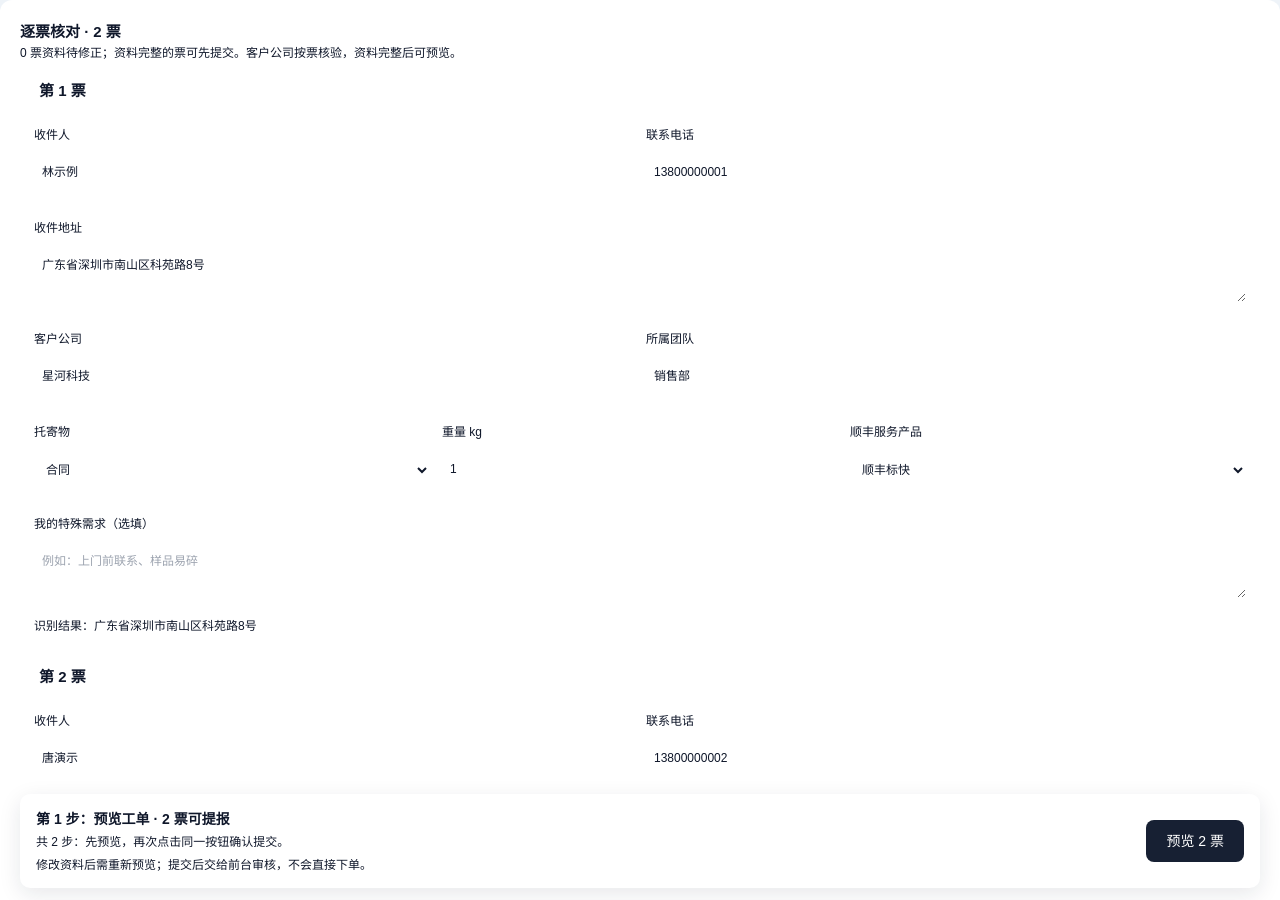
Test case: keeps each ticket value frozen after success and an unknown response
Select "样品" in the dropdown named "第1票托寄物" at (232,470), box x1=34 y1=453 x2=430 y2=487
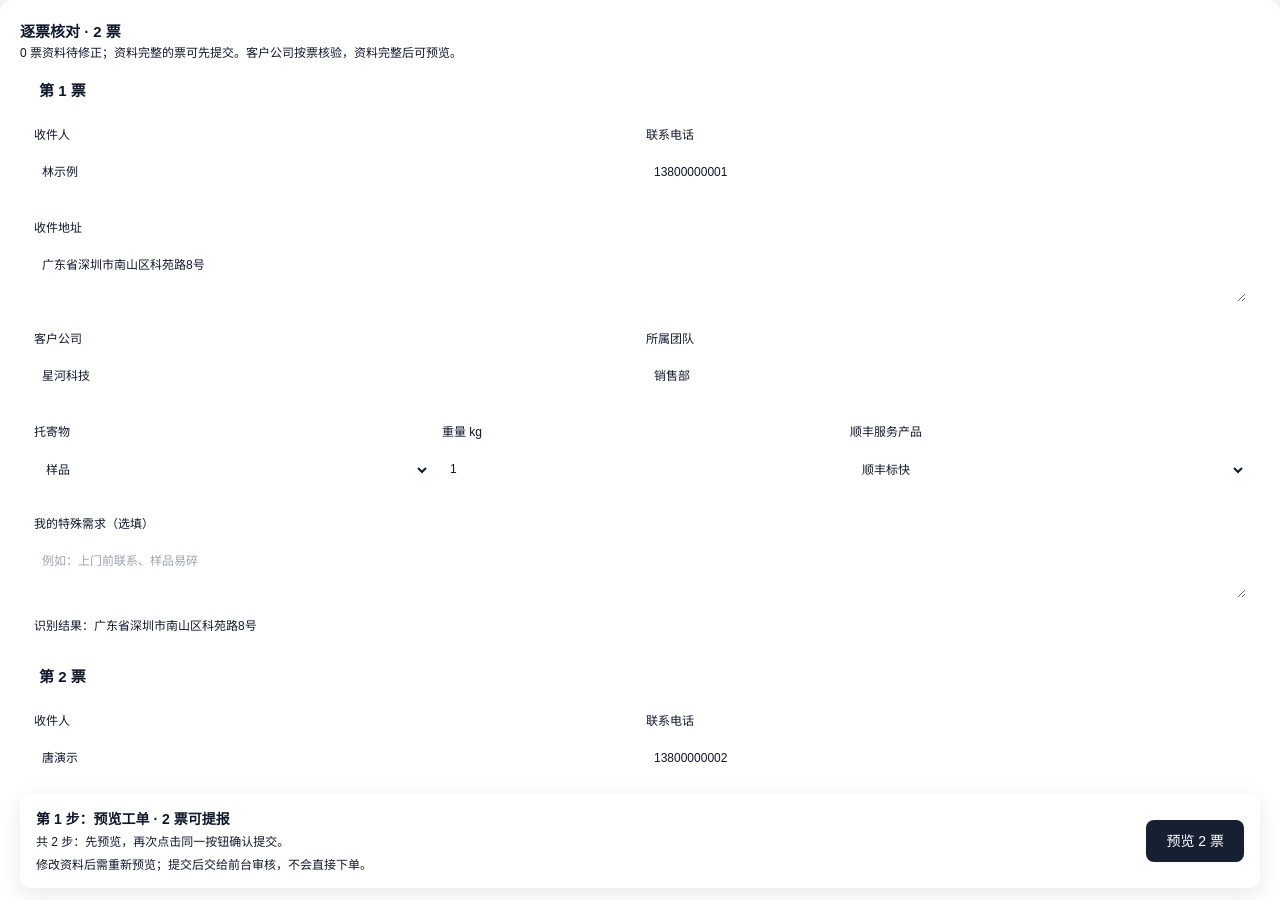
Click the button "预览 2 票" at (1195,841), box x1=1146 y1=820 x2=1244 y2=862
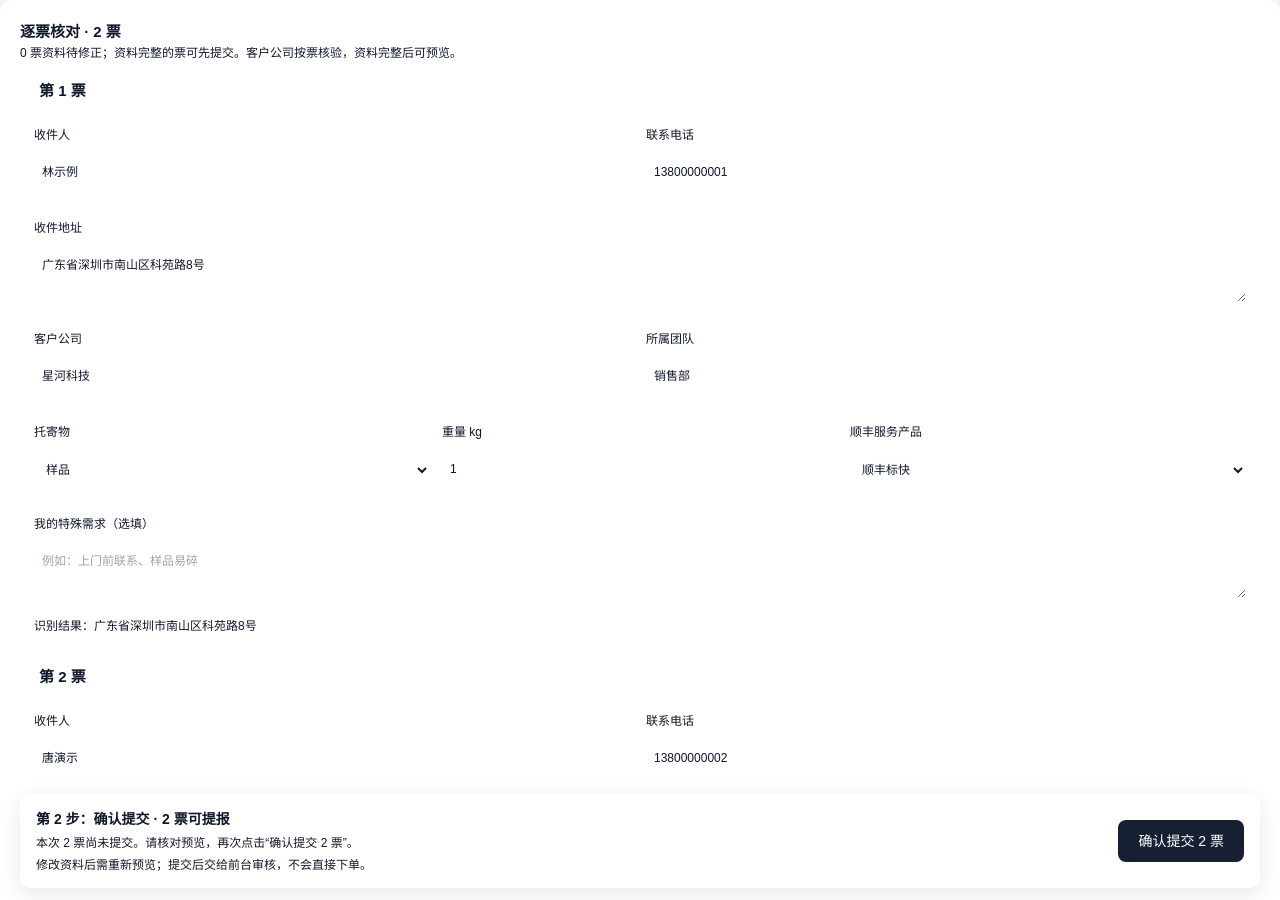
Click the button "确认提交 2 票" at (1181,841), box x1=1118 y1=820 x2=1244 y2=862
(page scrolled)
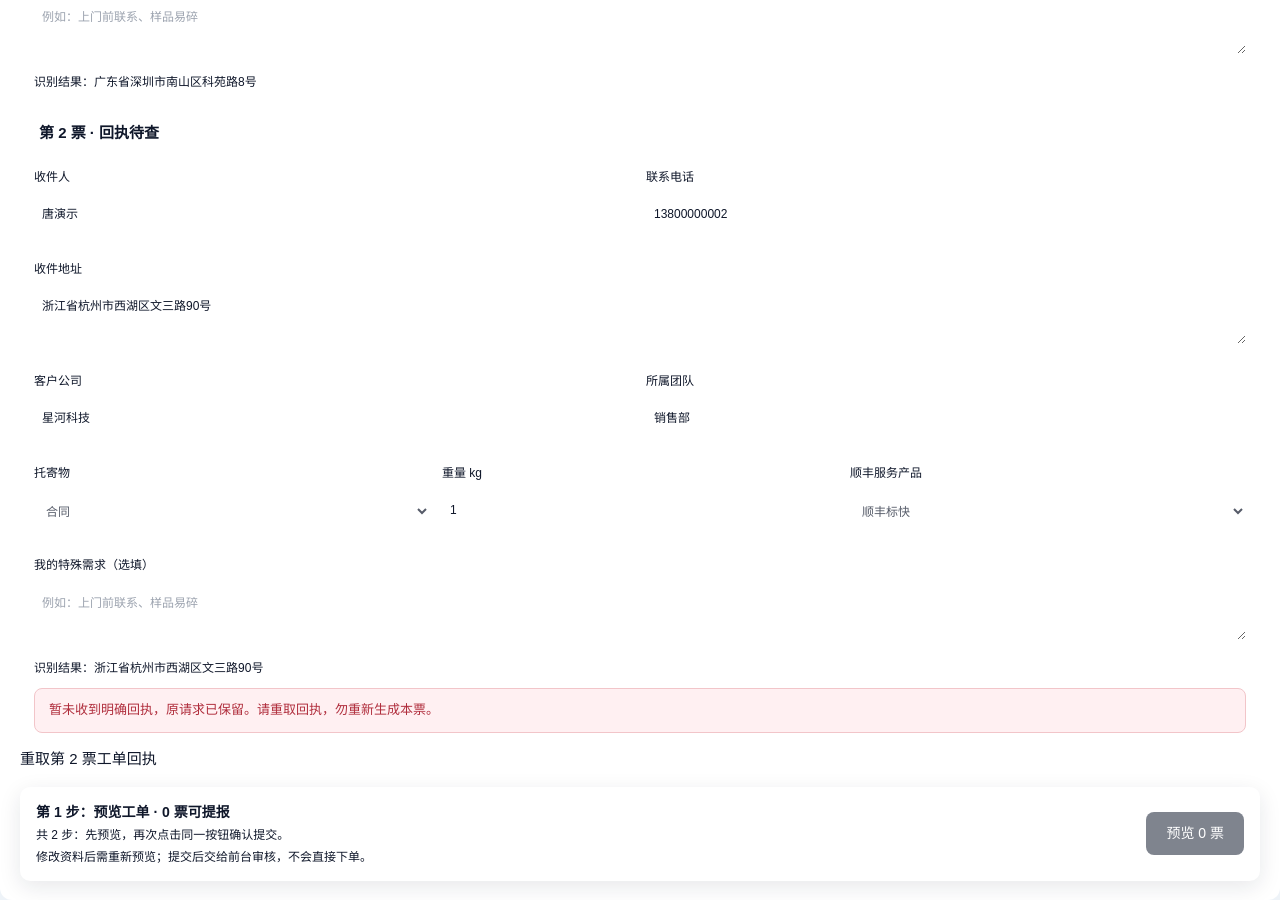
Expected: the field named "第2票客户公司" holds "星河科技", x1=34 y1=401 x2=634 y2=436
Expected: the button "重取第 2 票工单回执" is shown, x1=20 y1=747 x2=157 y2=771
